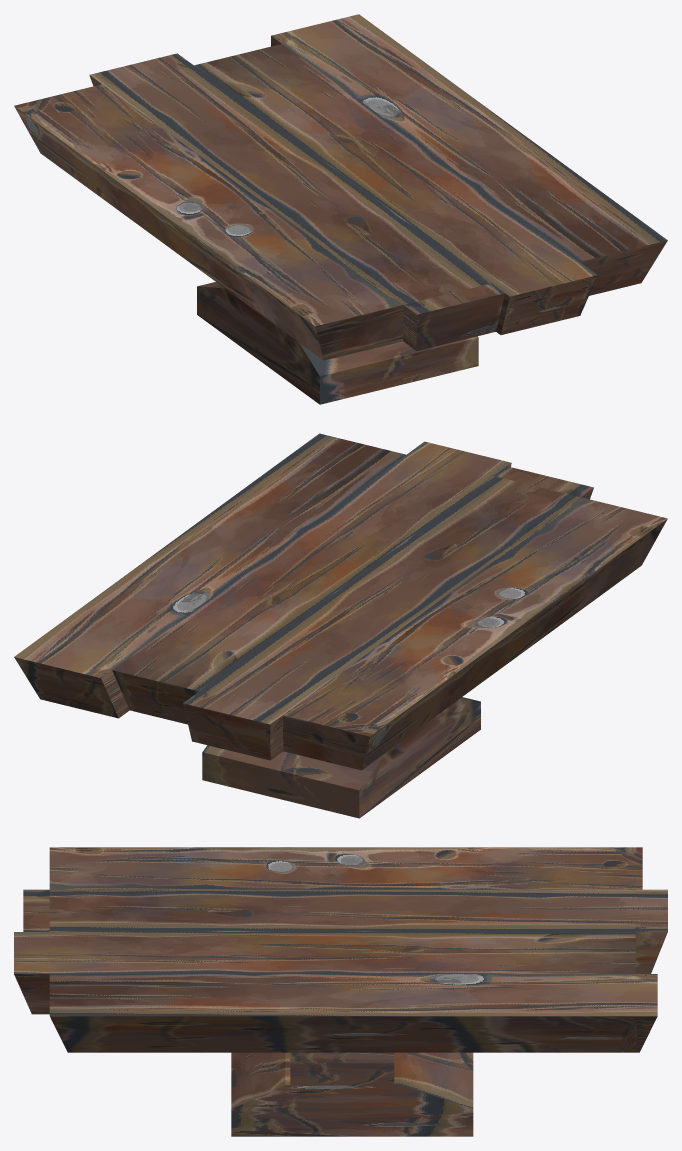
Rendered from table.glb.
3 views of the same model, one above another, from view 1: azimuth 30°, elevation 25°; view 2: azimuth 150°, elevation 25°; view 3: azimuth 270°, elevation 25° (orthographic).
Parts seen in each view (by area): view 1: plank1, plank2, plank3, plank4, Cube; view 2: plank1, plank2, plank4, plank3, Cube; view 3: plank4, plank2, plank3, plank1, Cube.
Part boxes in pixels (bbox=[...]): plank1: bbox=[14, 84, 403, 360]; plank2: bbox=[89, 53, 504, 350]; plank3: bbox=[194, 44, 597, 334]; plank4: bbox=[271, 14, 667, 295]; Cube: bbox=[197, 282, 478, 404]; plank1: bbox=[283, 497, 667, 770]; plank2: bbox=[183, 466, 593, 760]; plank4: bbox=[14, 433, 405, 718]; plank3: bbox=[112, 441, 511, 724]; Cube: bbox=[202, 697, 480, 818]; plank4: bbox=[49, 974, 657, 1052]; plank2: bbox=[23, 889, 667, 973]; plank3: bbox=[14, 932, 635, 1014]; plank1: bbox=[49, 847, 642, 889]; Cube: bbox=[231, 1052, 473, 1136].
Size of the model in its own units: 3.09 by 1.42 by 5.04.
Materials: 1 (1 with a texture image).
